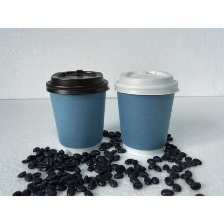paper_cup: (110, 66, 182, 160), (42, 64, 111, 158)
